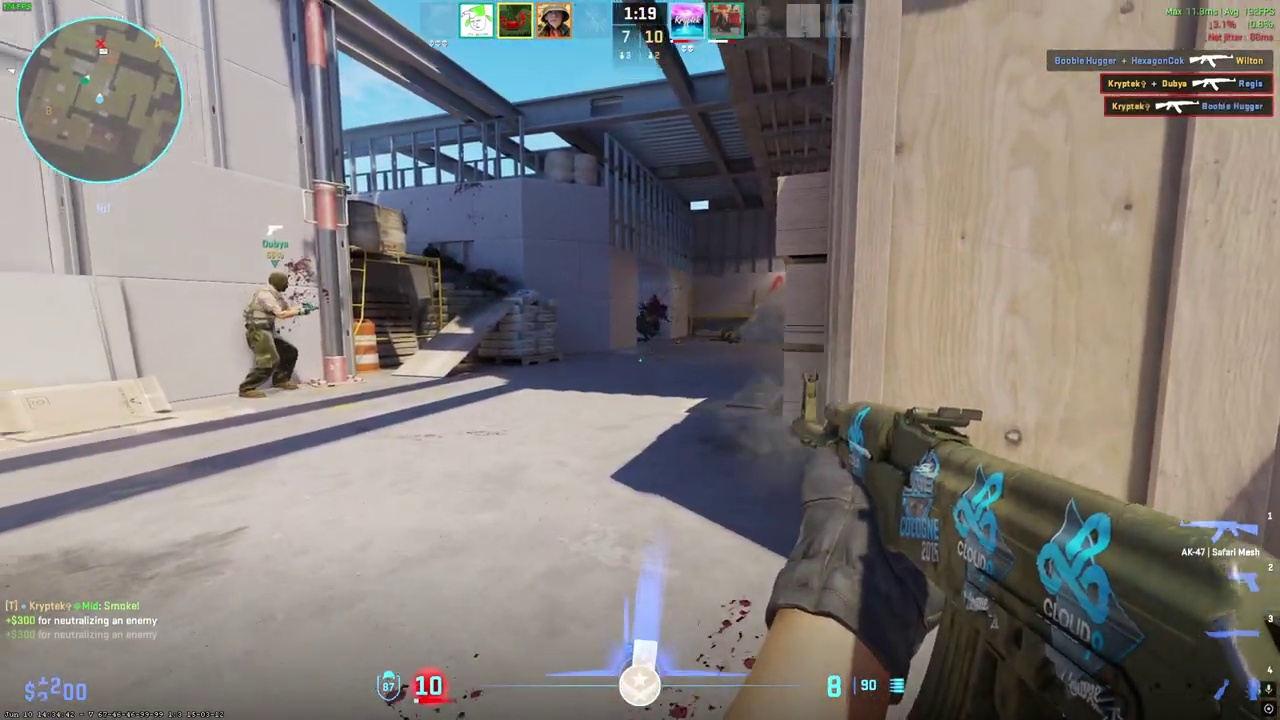Terrorist: (239, 272, 305, 398)
